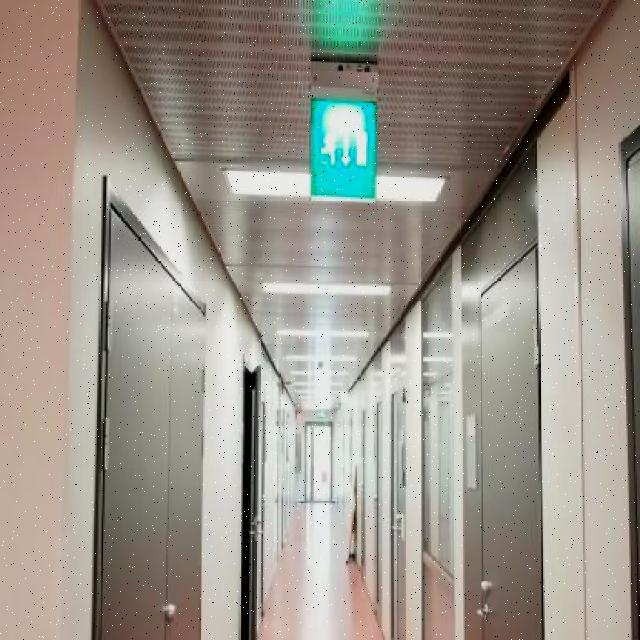emergency_exit: (308, 96, 378, 201)
